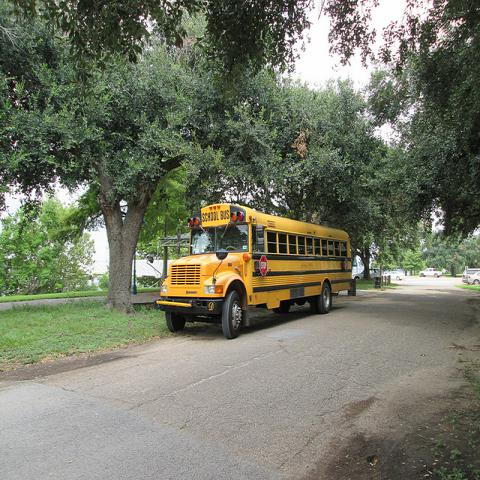bus: (146, 204, 352, 338)
car: (353, 269, 380, 280), (382, 271, 405, 280), (467, 270, 479, 286)
truck: (419, 268, 443, 278)
